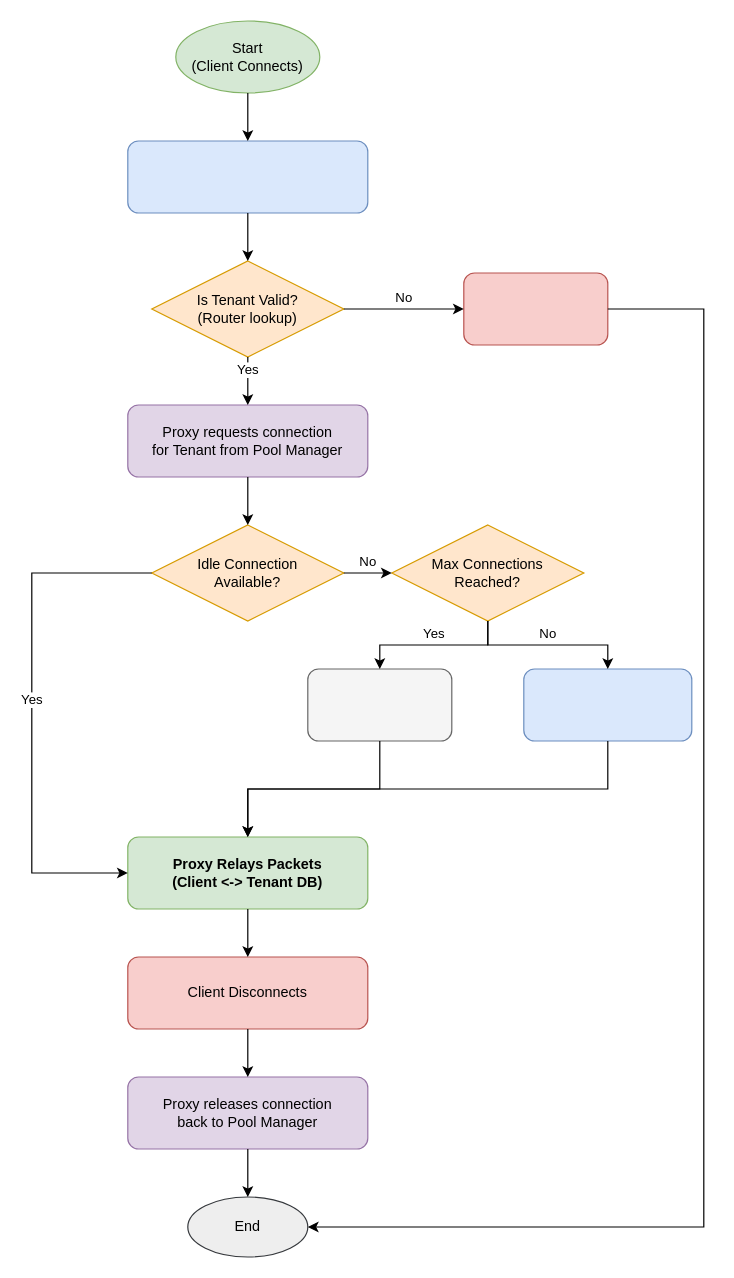
This 734x1278 diagram has some shape labels left out. Each missing label, with the centre of its shape:
Dial Tenant Database (Create new connection): the point at 607,704
Proxy extracts Tenant ID (from PG startup options or MySQL username): the point at 247,176
Return Auth Error: the point at 535,308
Wait in Queue (Timeout possible): the point at 379,704
